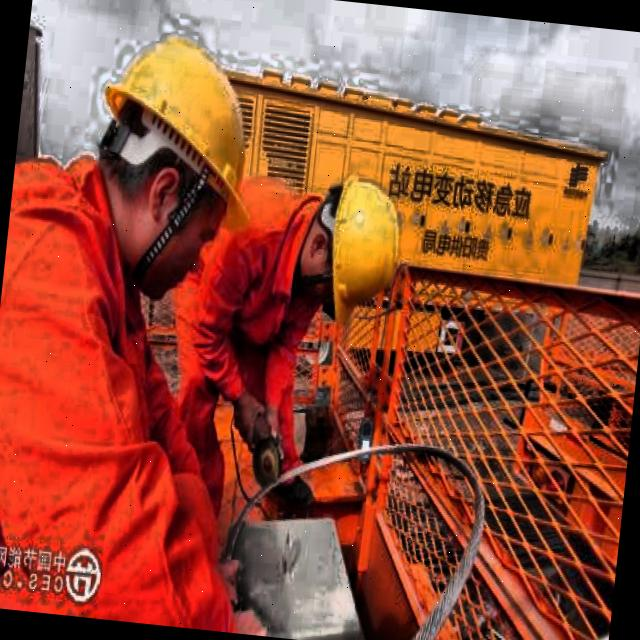helmet: (69, 0, 280, 301), (291, 168, 414, 334)
